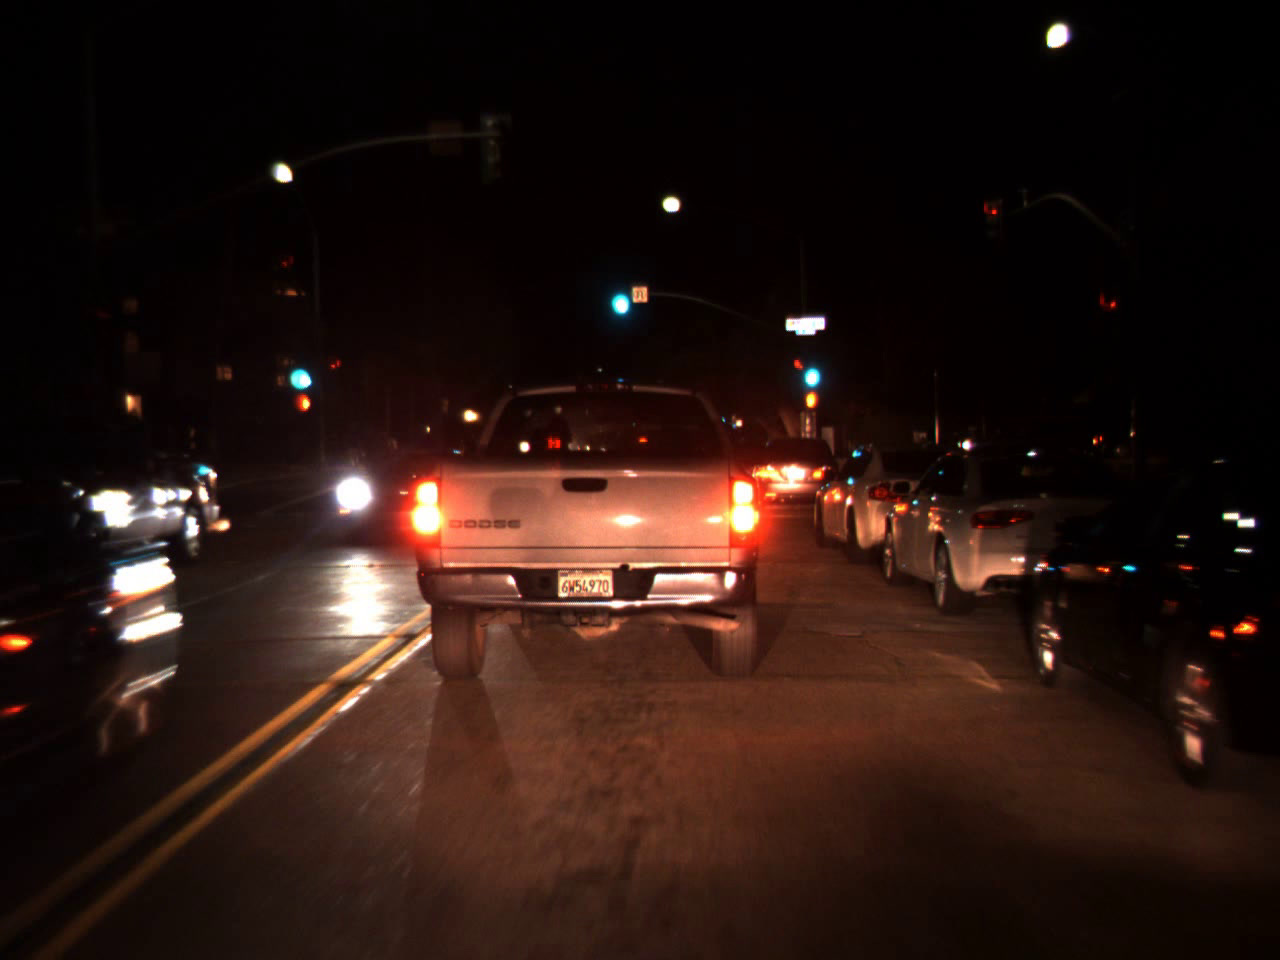go: (283, 343, 315, 397), (604, 268, 632, 322), (798, 343, 823, 394)
